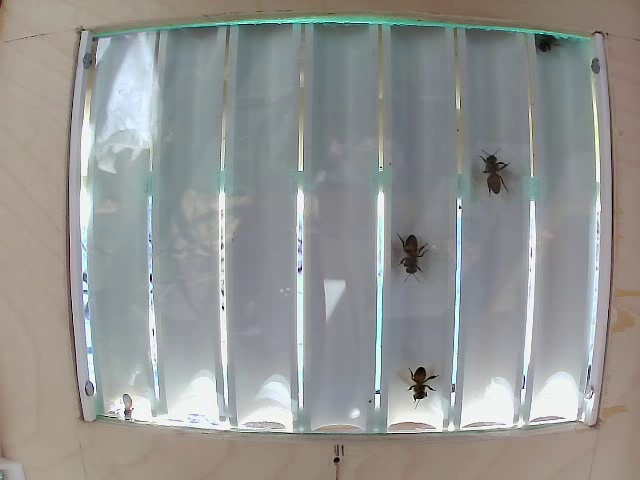bee: (391, 224, 441, 287), (402, 362, 452, 409), (466, 140, 513, 189)
